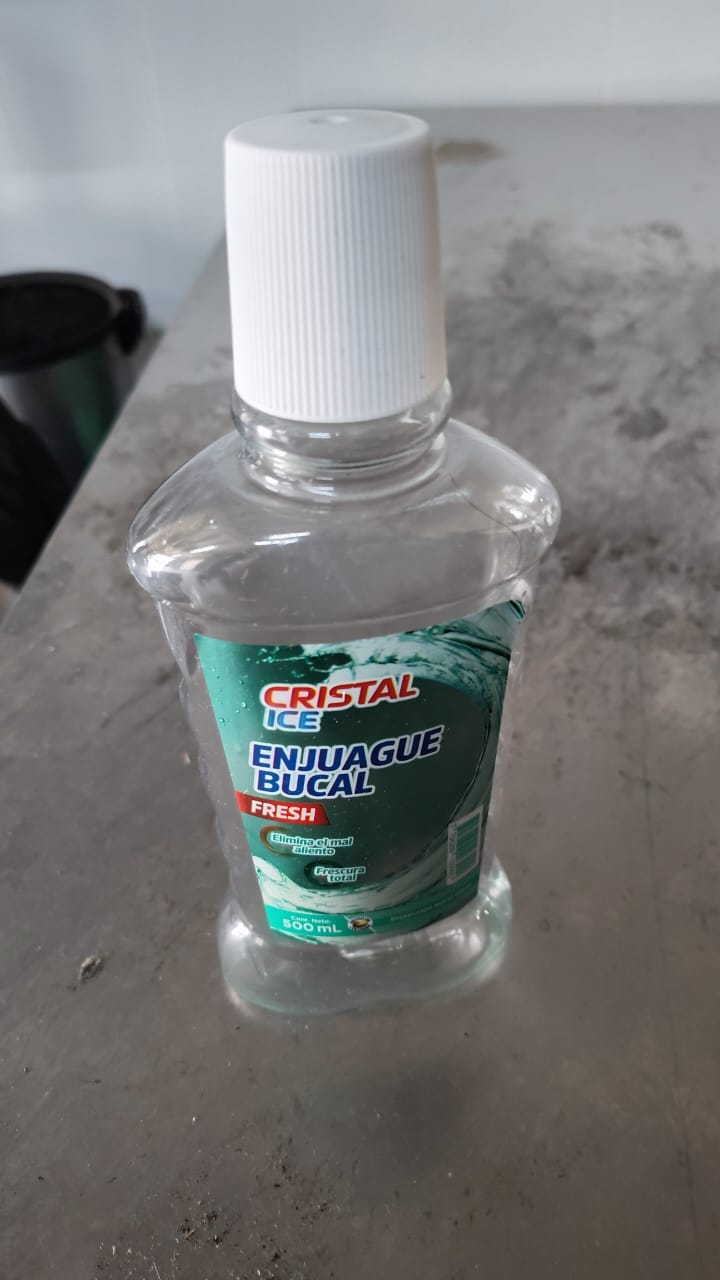Plastico: (130, 109, 557, 1021)
